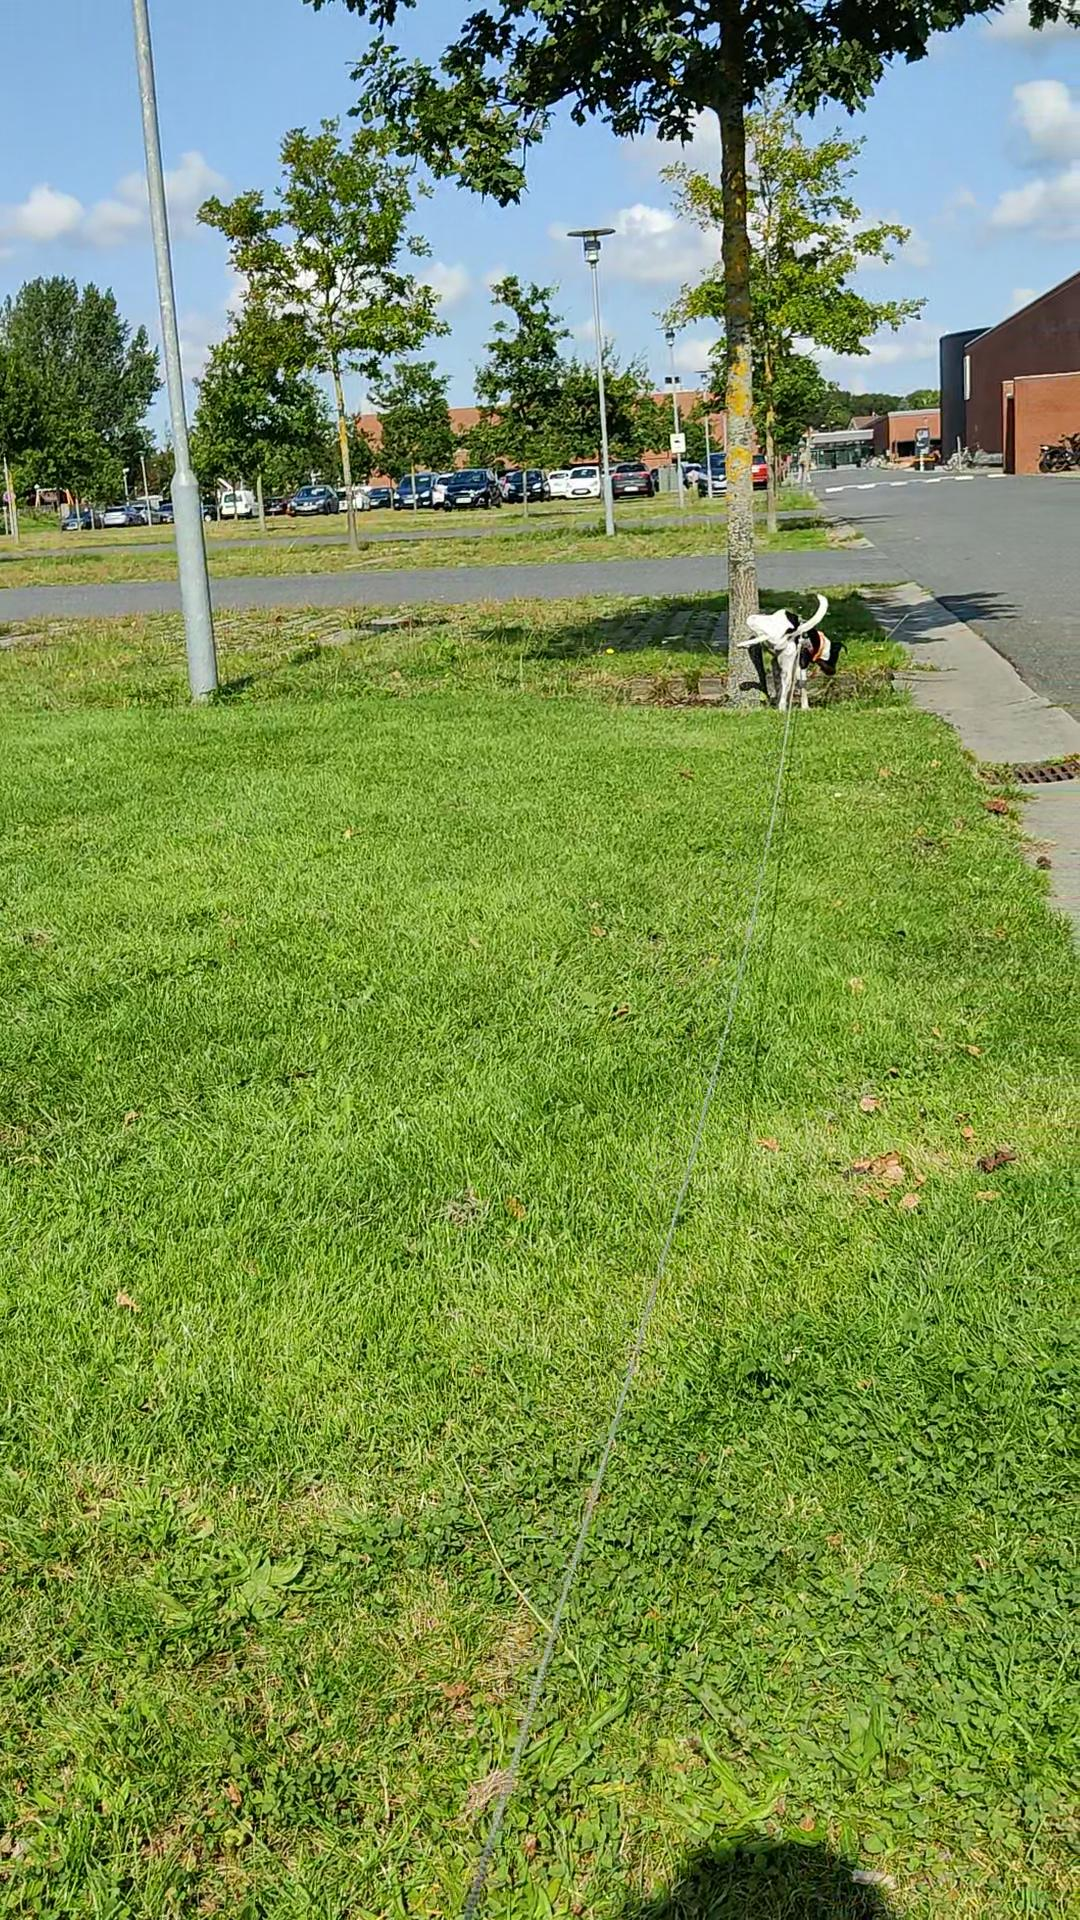Dog: (731, 584, 853, 713)
